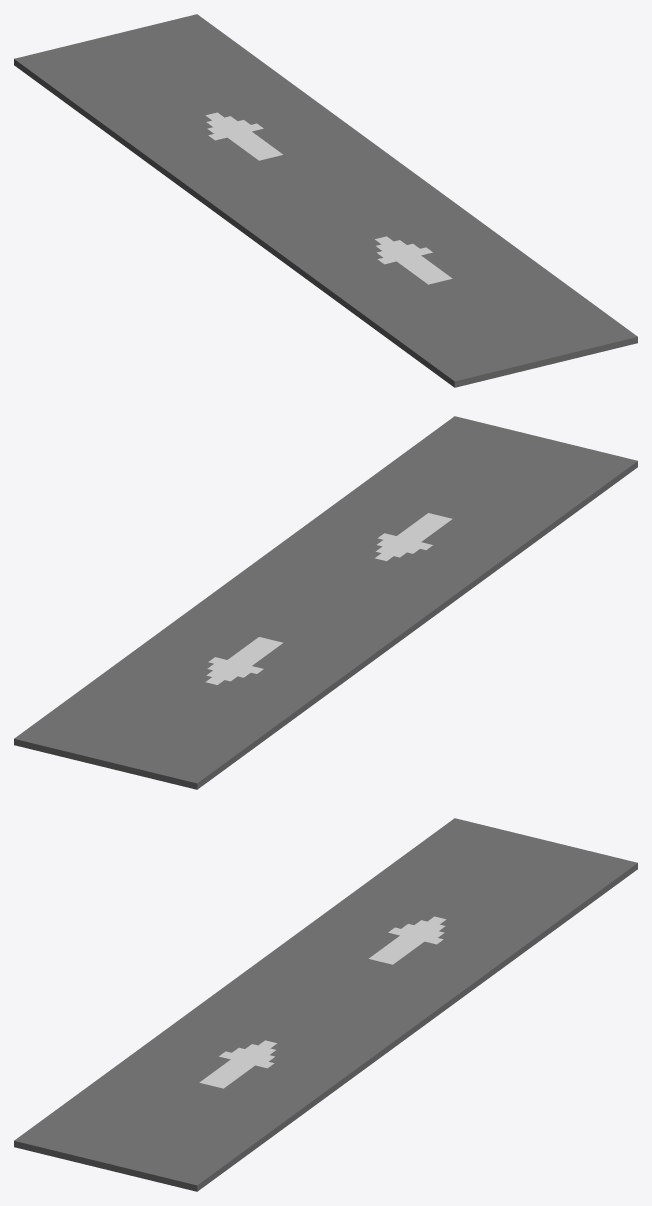
The model's file is turn-lane-straight.obj.
The picture shows the model from 3 angles, top to bottom: view 1: azimuth 30°, elevation 25°; view 2: azimuth 150°, elevation 25°; view 3: azimuth 330°, elevation 25°; orthographic projection.
Size of the model in its own units: 30 by 1 by 125.
